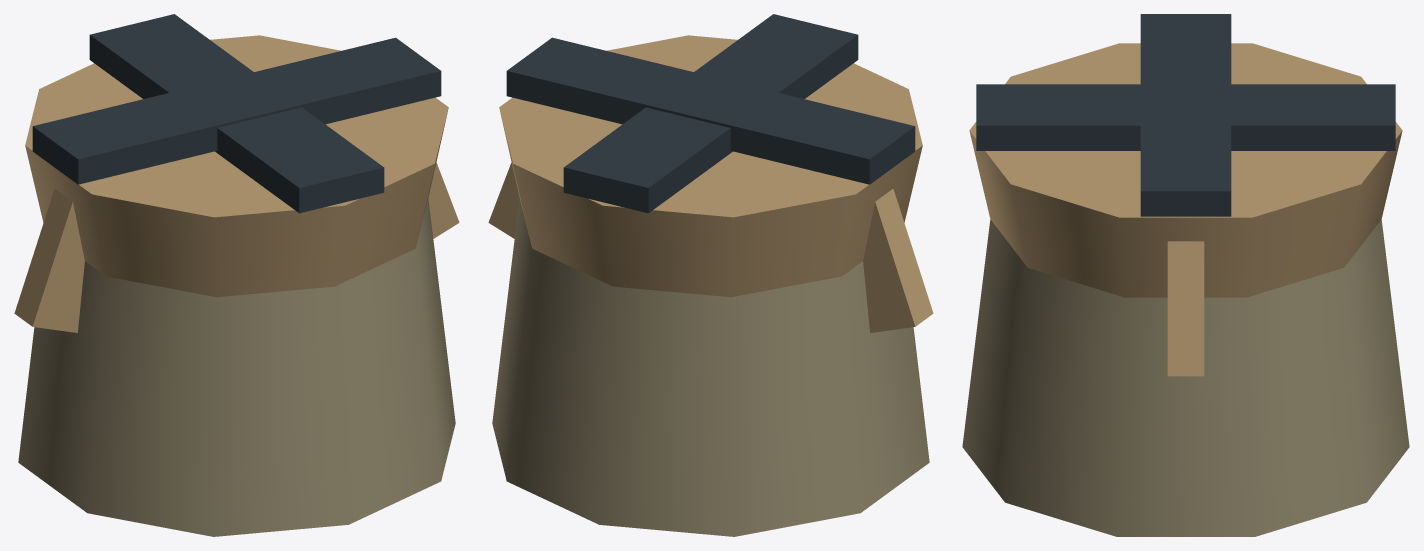
File: fixed-salve.glb
3 views of the same model, side by side, from view 1: azimuth 30°, elevation 25°; view 2: azimuth 150°, elevation 25°; view 3: azimuth 270°, elevation 25° (orthographic).
Parts seen in each view (by area): view 1: piece_whole; view 2: piece_whole; view 3: piece_whole.
Boxes of the visible parts, x1,y1,x2,y2 form: piece_whole: (14, 14, 459, 536); piece_whole: (488, 14, 933, 536); piece_whole: (962, 14, 1409, 536).
Size of the model in its own units: 0.3528 by 0.272 by 0.32.
